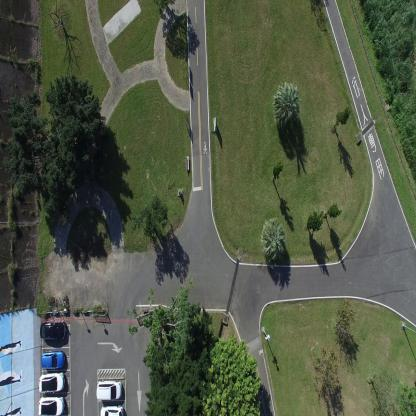car: (37, 371, 64, 393), (96, 379, 122, 400), (37, 395, 64, 415), (39, 321, 67, 340), (40, 350, 65, 369), (100, 404, 124, 415)
